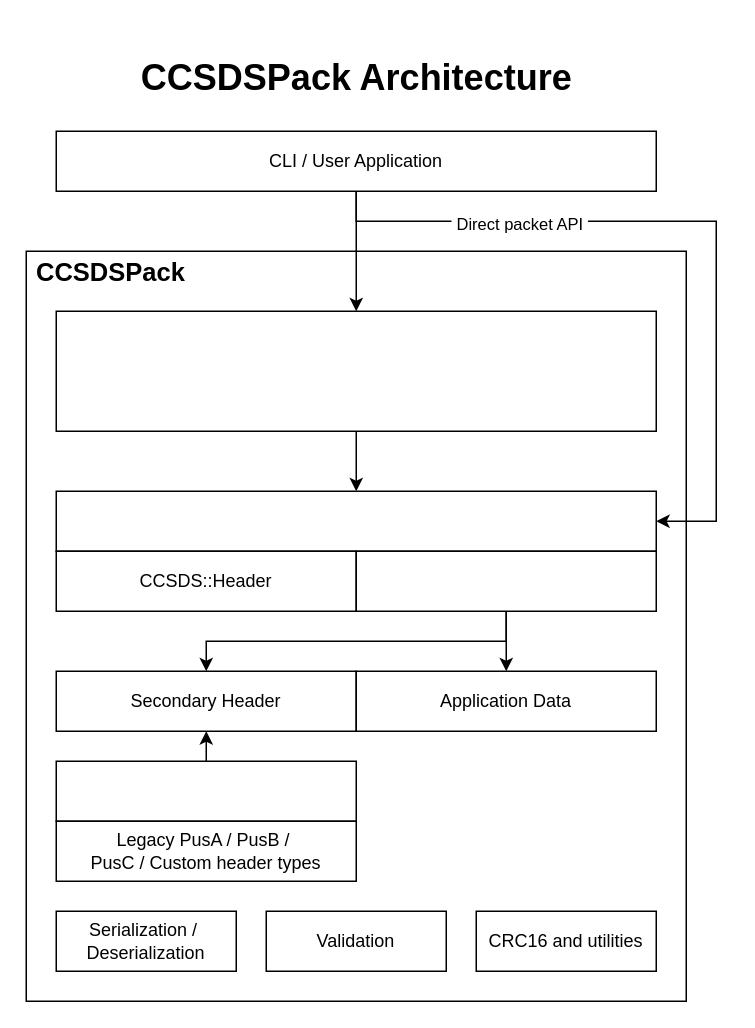
This 755x1028 diagram has some shape labels left out. The box of each missing label's shape, as (x1, y1, x2, y2) in pixels:
CCSDS::DataField: (355, 550, 656, 611)
CCSDS::Manager packet generation, splitting, loading: (55, 310, 656, 431)
CCSDS::Packet: (55, 490, 656, 551)
SecondaryHeaderFactory: (55, 760, 356, 821)
